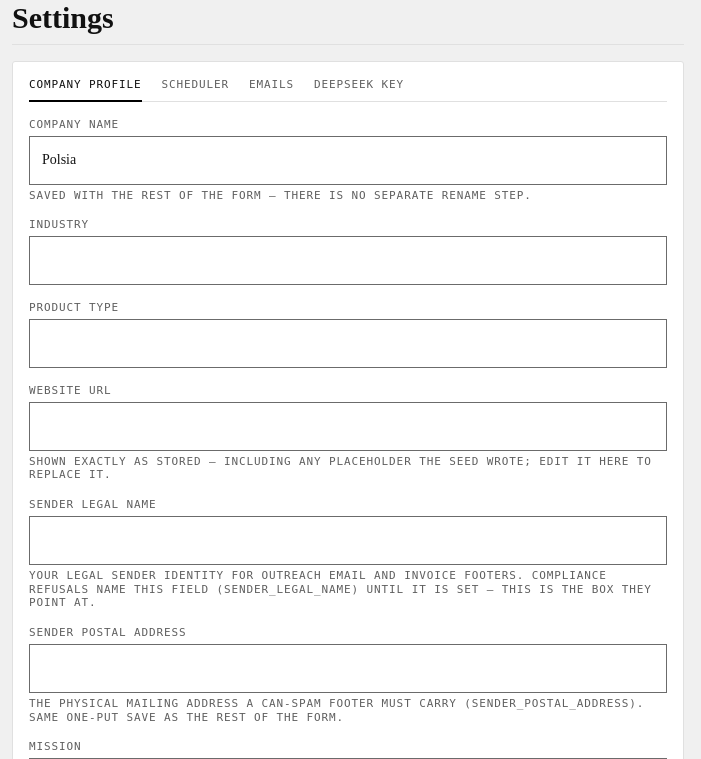
Test: SettingsPage › shows the success banner only when the write actually landed
// U3 re-aim: dirty-gated save — edit a field first.
Type "Changed" into the field labelled "Industry" at (348, 260), box [29, 236, 667, 285]
(page scrolled)
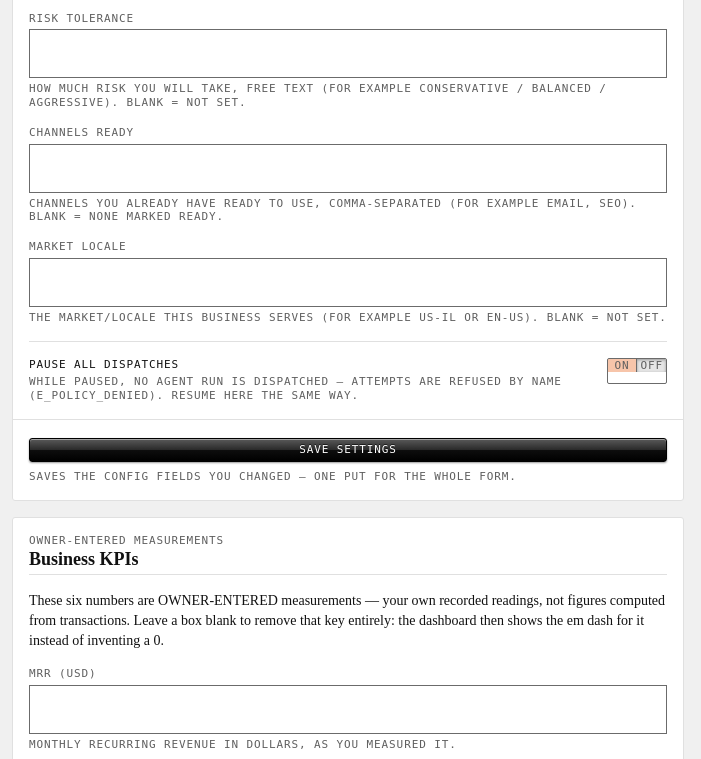
Click the button "Save Settings" at (348, 450), box [29, 438, 667, 462]
(page scrolled)
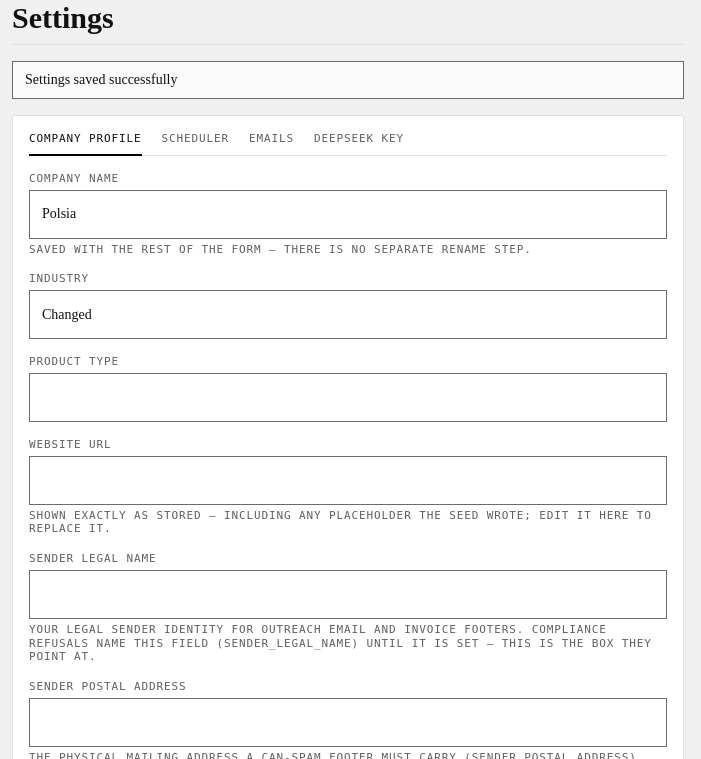
Result: the text "Settings saved successfully" is shown at [12, 61, 684, 99]
